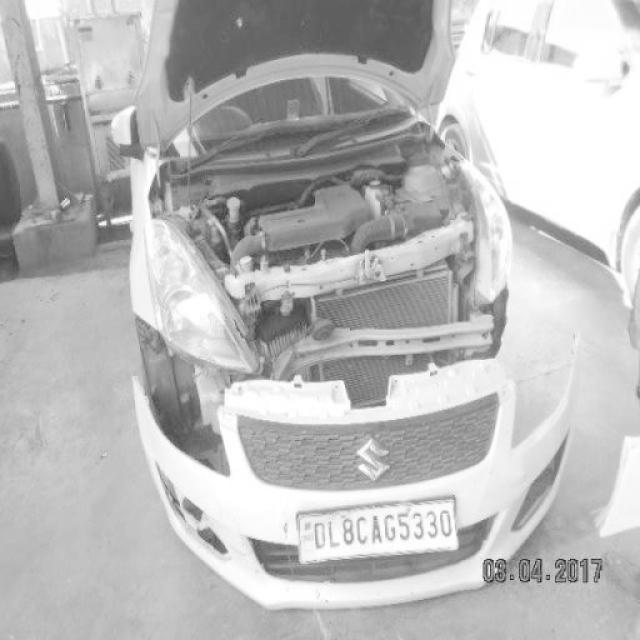car damage: (134, 125, 507, 436)
